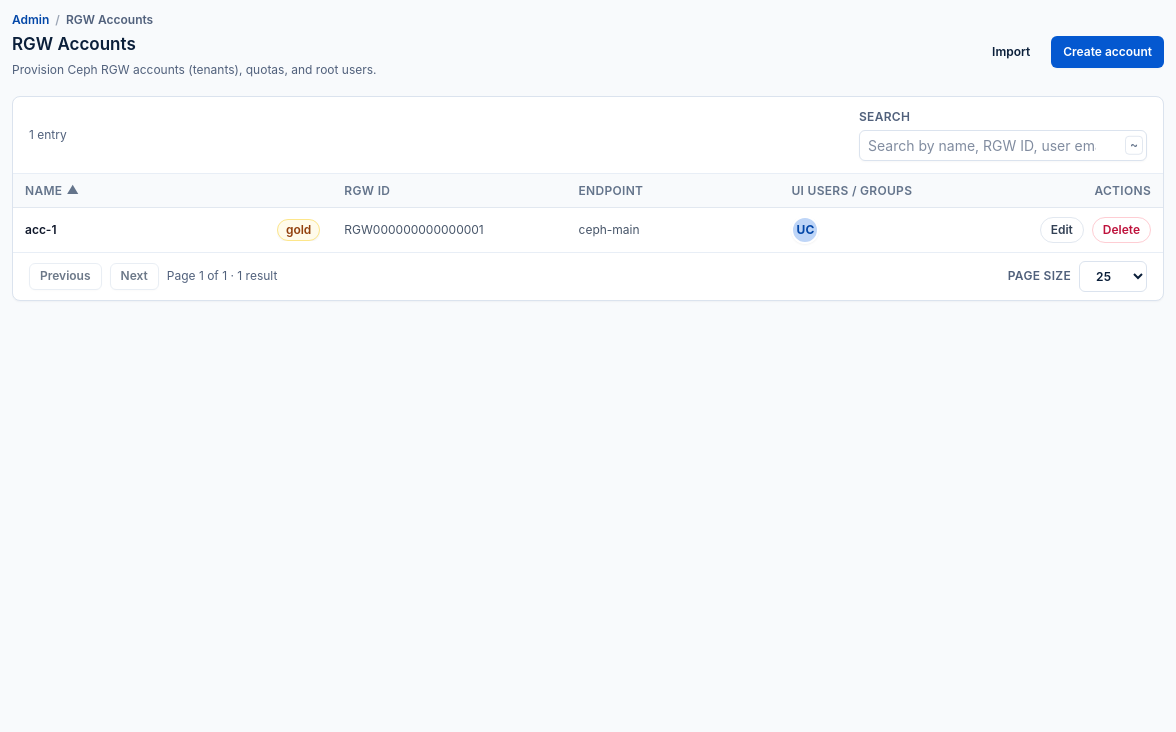
AccountsPage modal tabs › keeps the required account-principal Manager role while Portal is off
The image size is (1176, 732).
What coordinates should you click on to do the following:
click the button "Edit"
I would click on:
 (1062, 230)
Its box is [1040,217,1084,243].
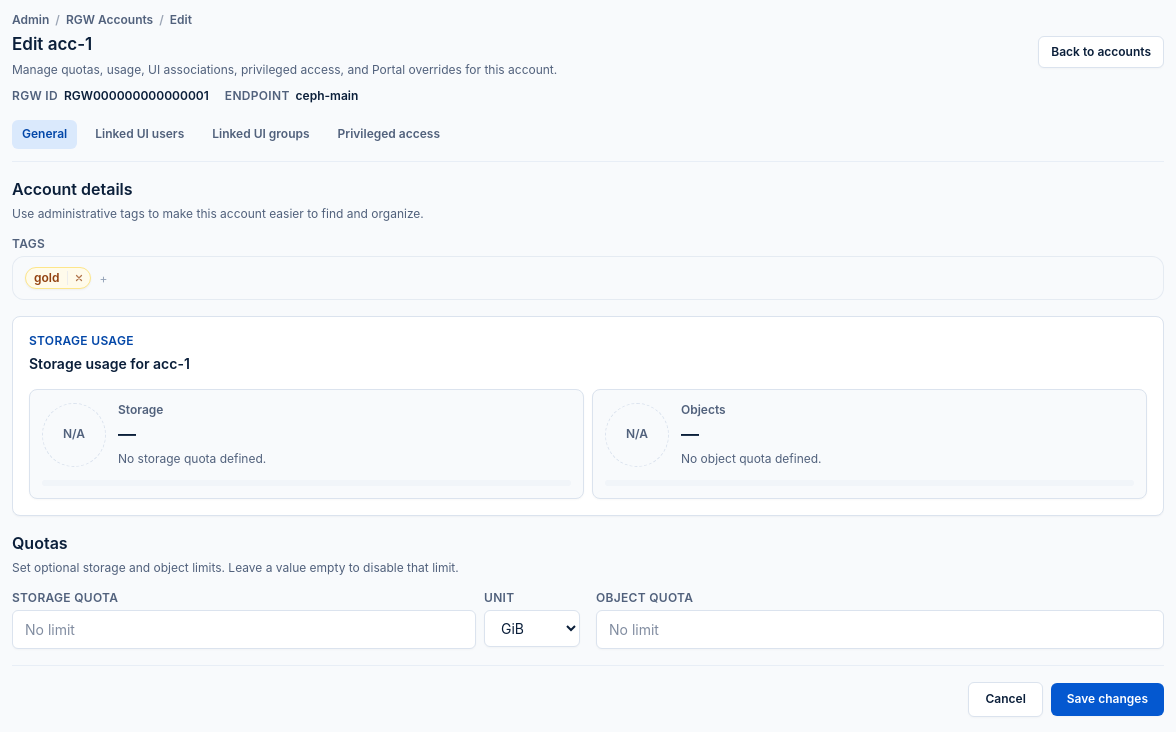
What coordinates should you click on to do the following:
click the tab "Linked UI users"
I would click on:
 (140, 134)
Its box is [85,120,194,148].
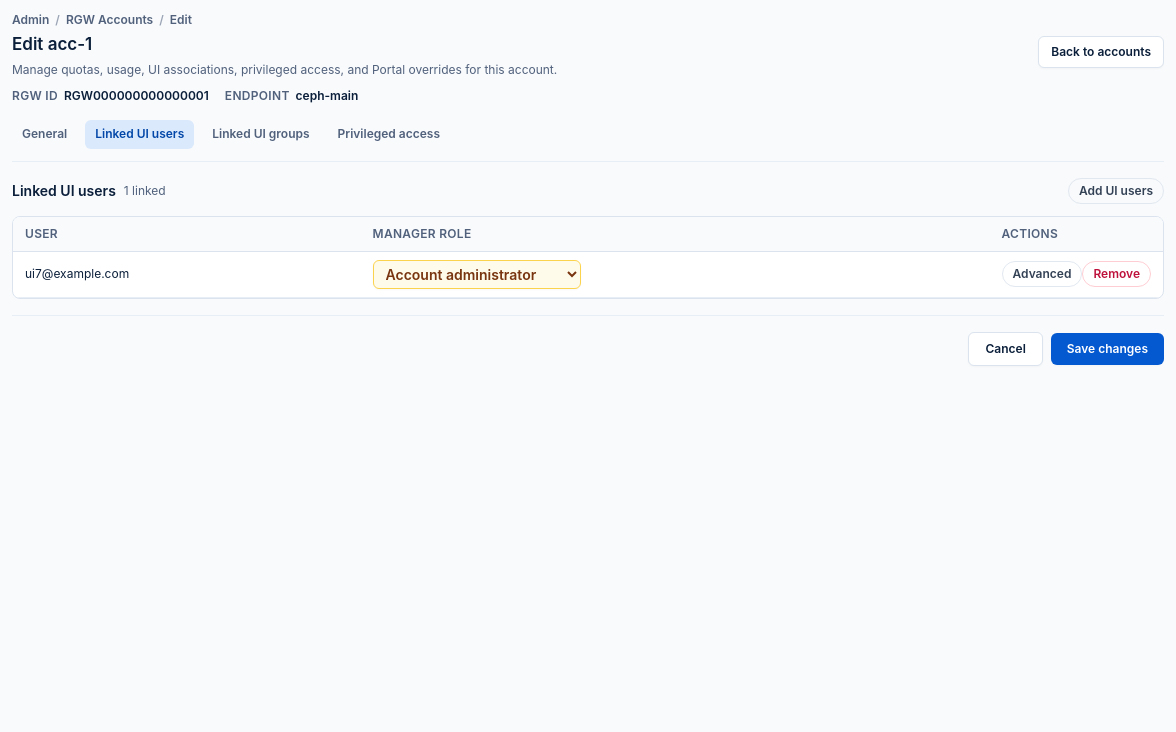
Check: the column heading "Manager role" is shown, box [360,217,990,252]
Check: the dropdown named "Manager role for ui7@example.com" shows "Account administrator", box [372,260,580,289]
